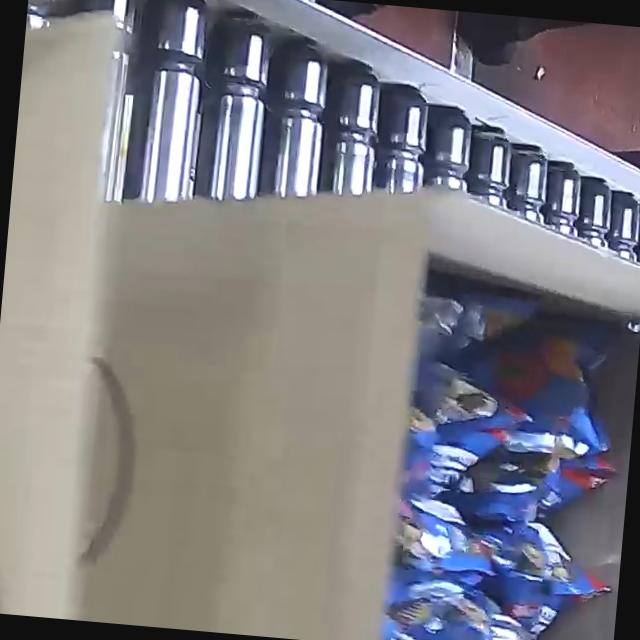paprika: (377, 286, 640, 640)
